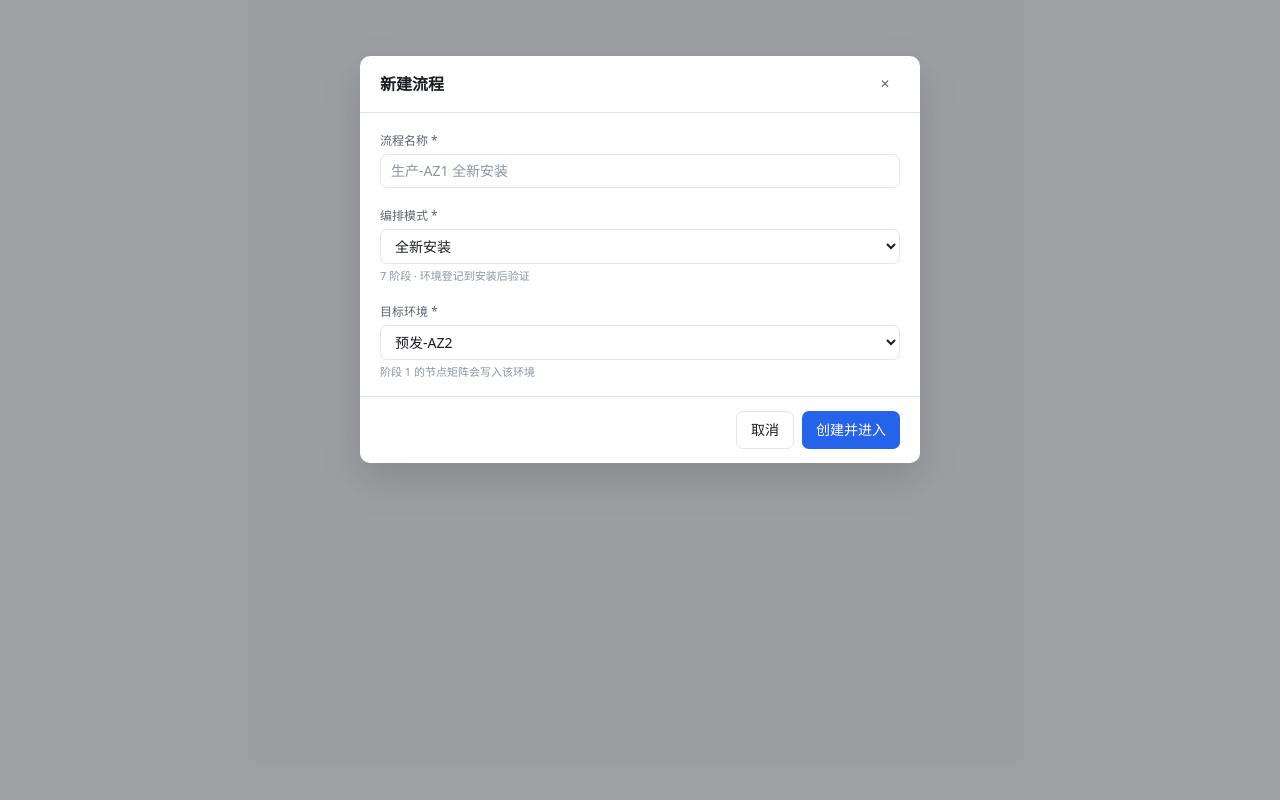
Test: NewFlowDialog › 取消后重开是干净表单：草稿与旧 preset 都不残留（对话框实例从不卸载）
The image size is (1280, 800).
Type "残留草稿" into the field labelled "流程名称 *" at (640, 171), box left=380, top=154, right=900, bottom=188
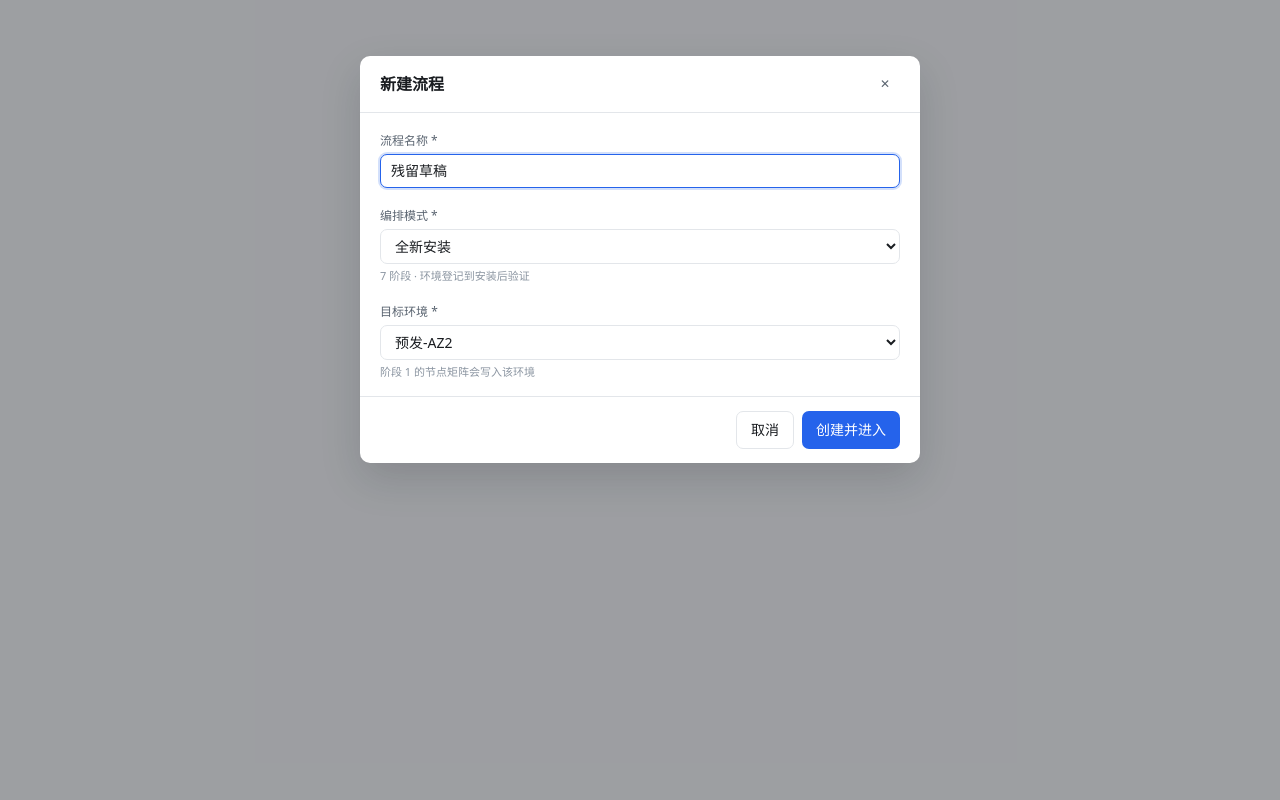
Select "K8s / Helm 升级" in the dropdown labelled "编排模式 * 7 阶段 · 环境登记到安装后验证" at (640, 246), box left=380, top=229, right=900, bottom=264
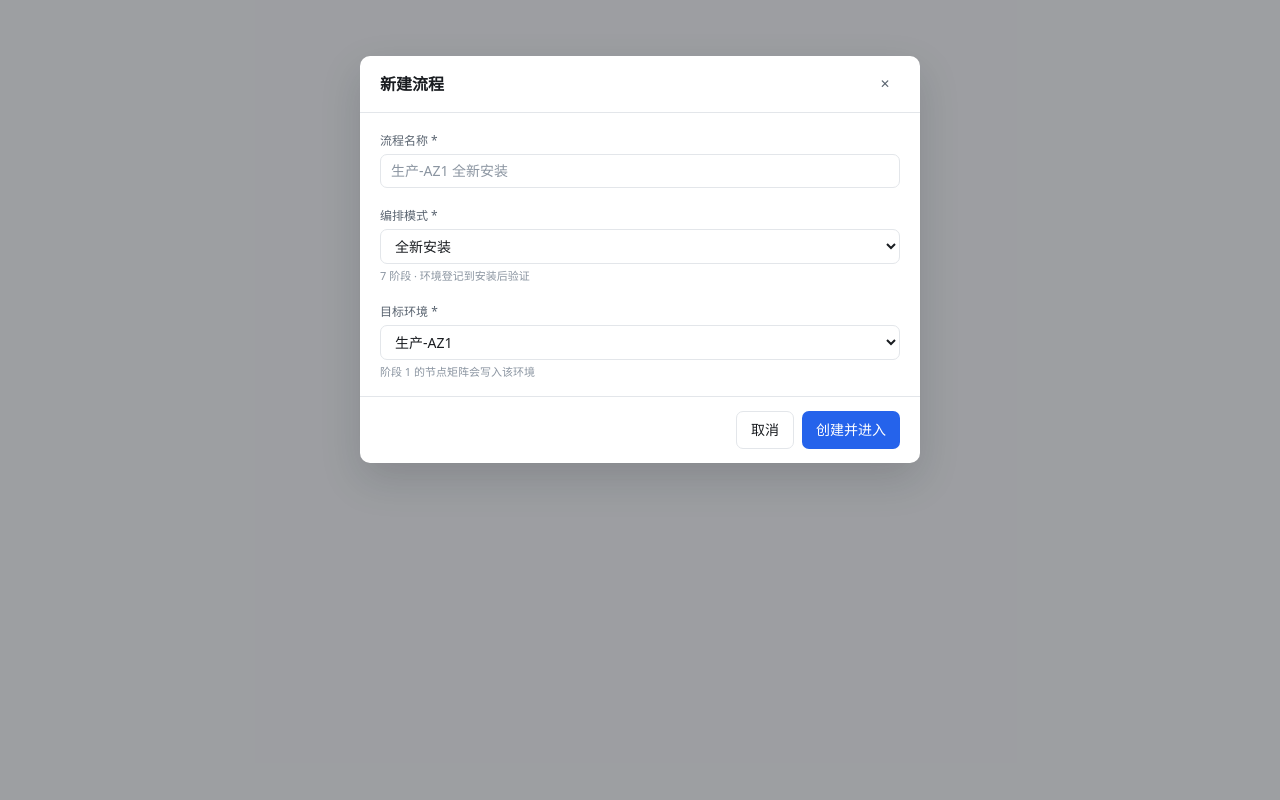
Now the field labelled "流程名称 *" is empty, box left=380, top=154, right=900, bottom=188
Now the dropdown labelled "目标环境 * 阶段 1 的节点矩阵会写入该环境" shows "生产-AZ1", box left=380, top=325, right=900, bottom=360
